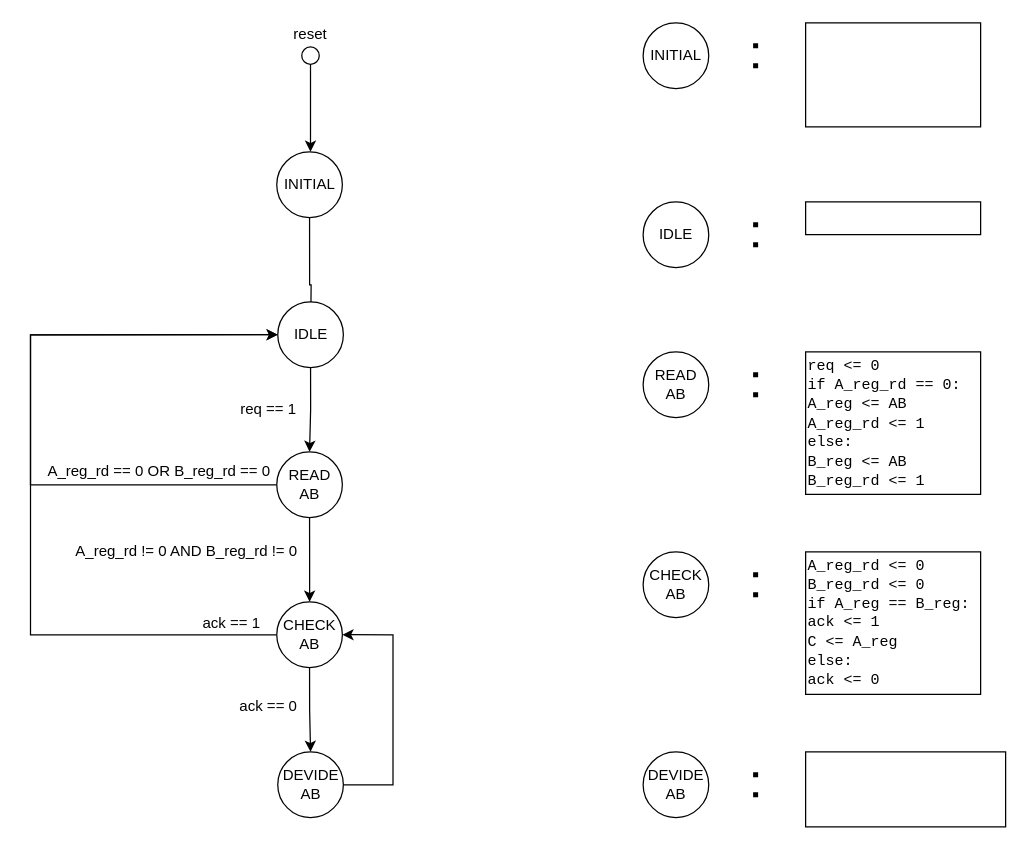
Some shapes in this 1029 by 849 pixel diagram are drawn without their labels. Here are the shapes that lost their labels. From the top down, the centre of each, then its label:
At point (892, 74): "reset <= 0 req <= 0 ack <= 0 A_reg_rd <= 0 B_reg_rd <= 0".
At point (892, 218): "ack <= 0".
At point (905, 789): "temp = B_reg B_reg = A_reg % B_reg A_reg = temp".
